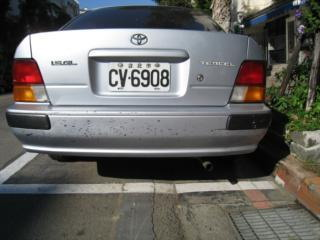plate: (103, 60, 173, 94)
